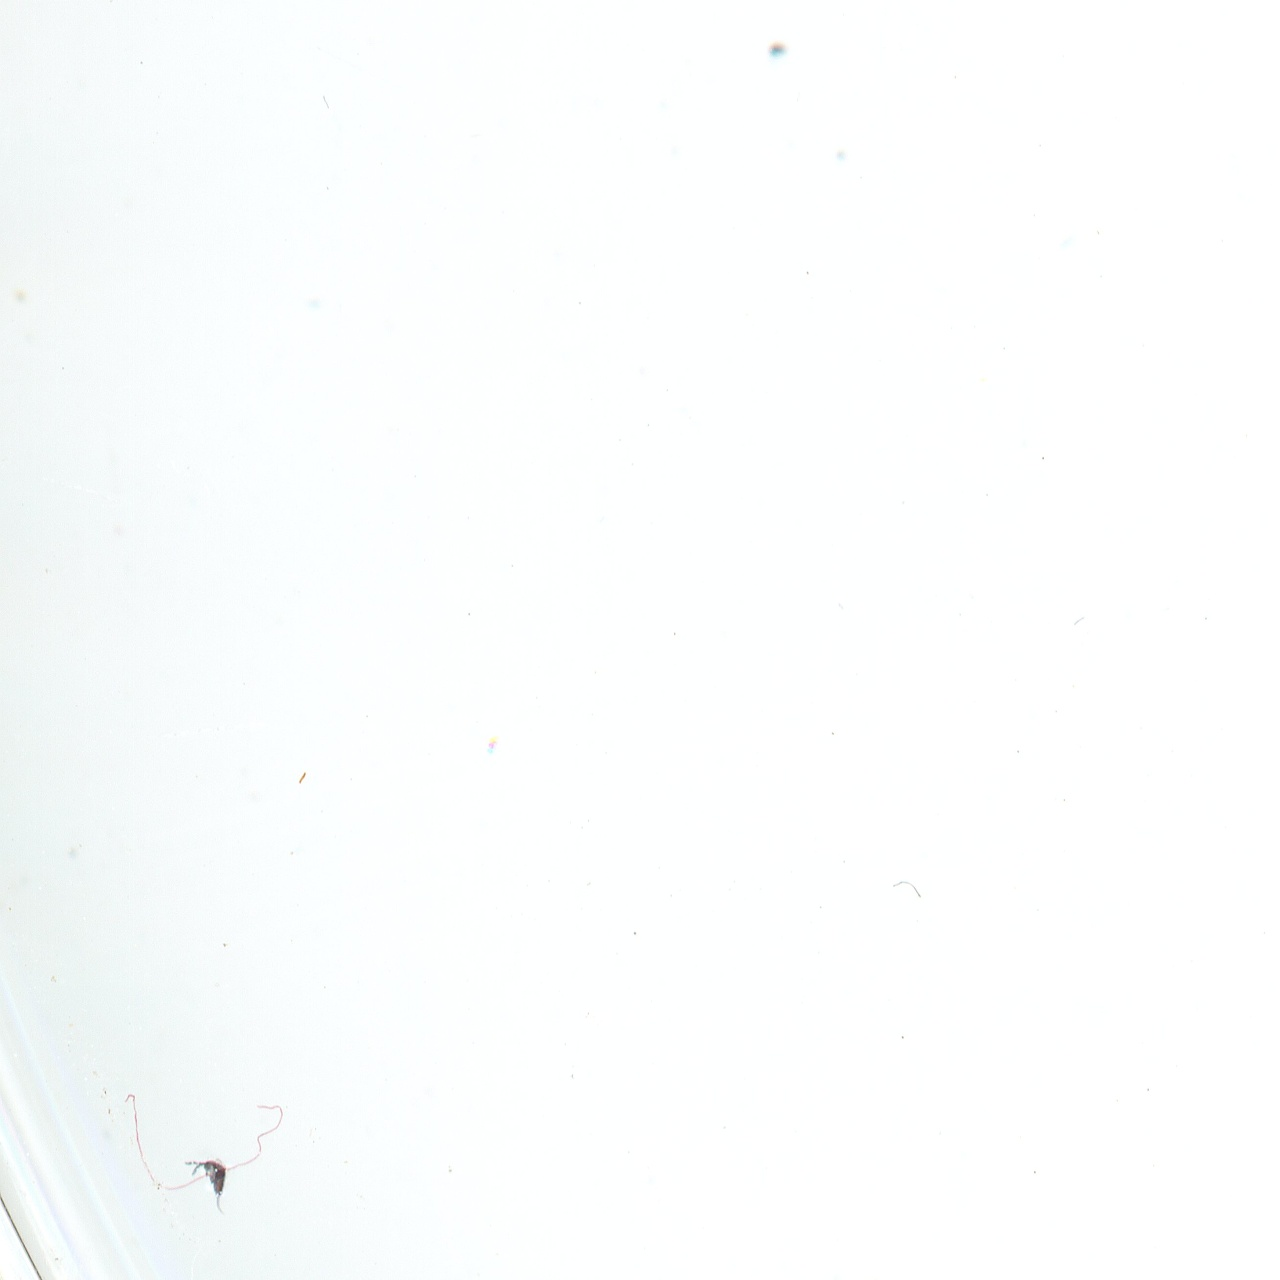arthropod: (182, 1155, 237, 1217)
